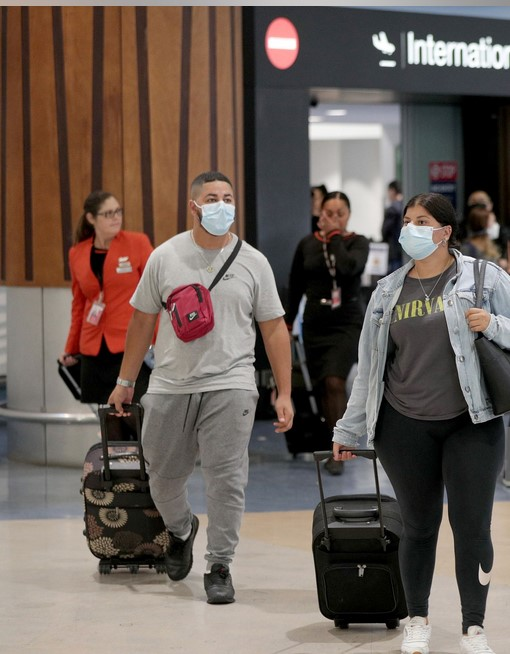face_no_mask: (318, 191, 354, 235), (89, 195, 123, 236)
face_with_mask: (399, 195, 453, 259), (188, 174, 238, 237)
